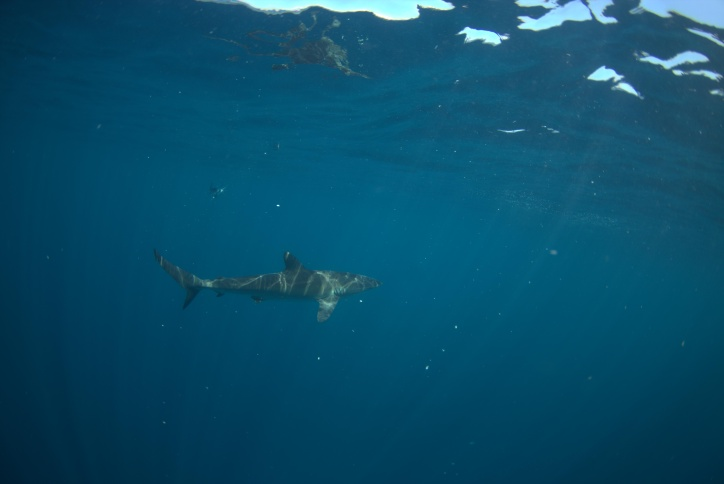Sedoso: (143, 235, 399, 323)
